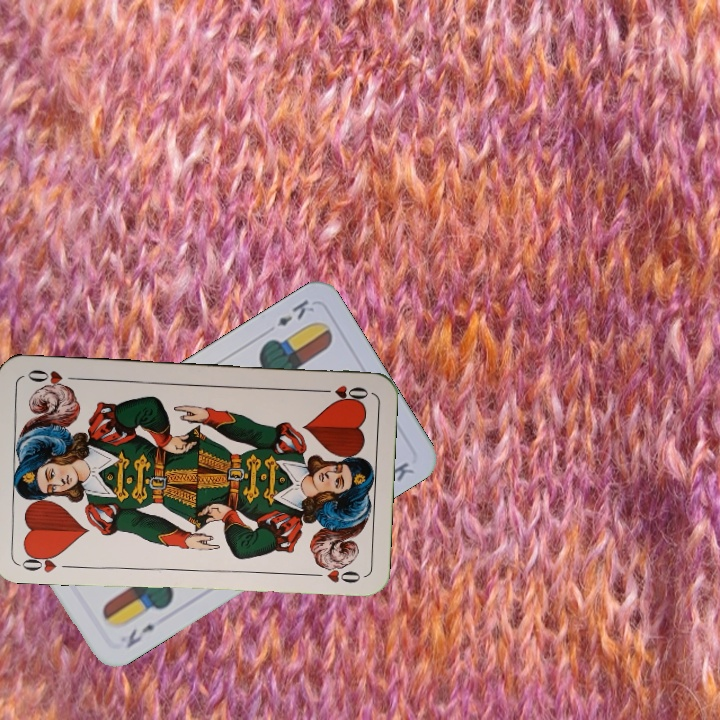EK: (273, 295, 317, 329), (122, 620, 158, 651)
HO: (312, 381, 372, 404), (14, 548, 64, 575)
